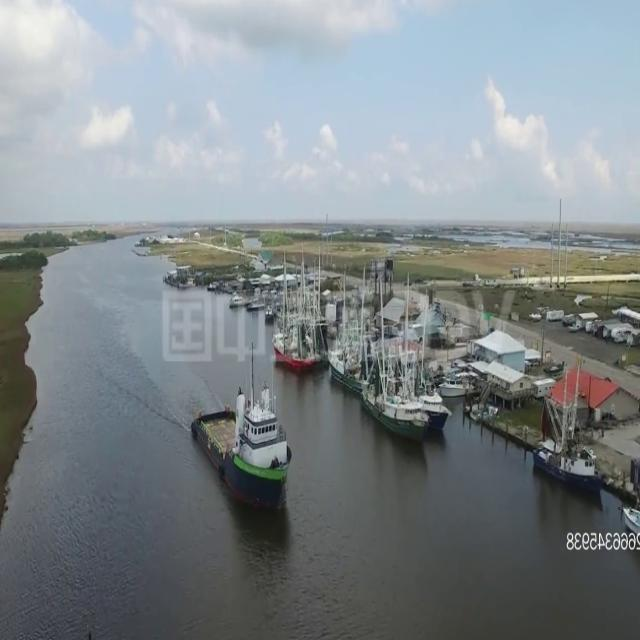fishing boat: (184, 364, 304, 499), (349, 352, 442, 451), (608, 461, 640, 562)
